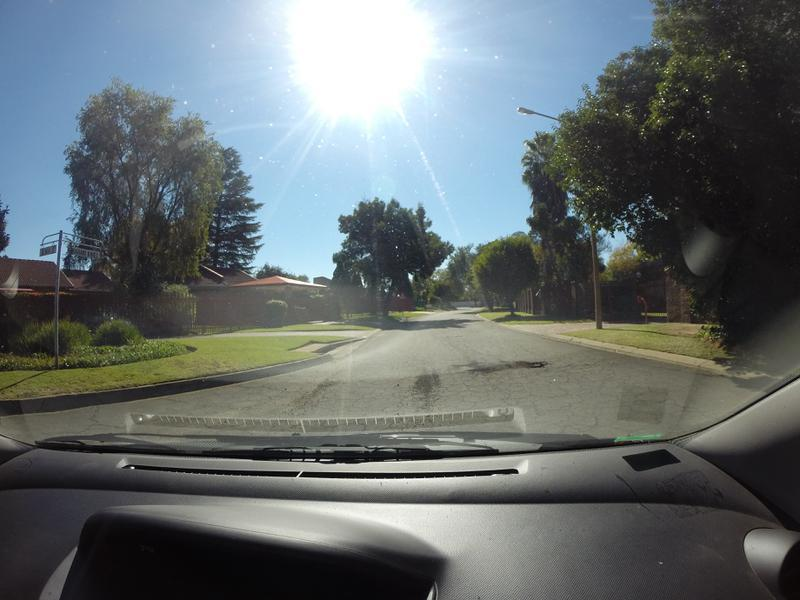pothole: (464, 356, 557, 372)
